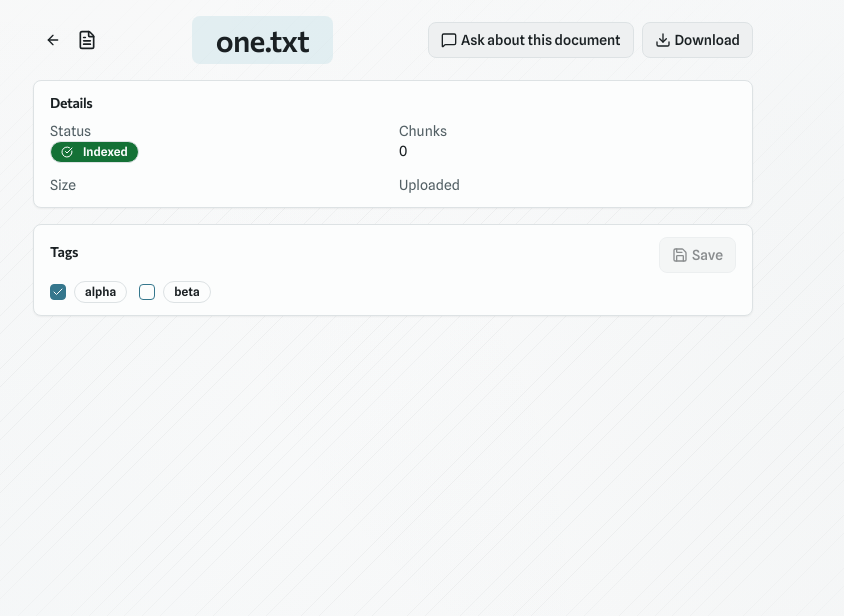
Test: AC6 toast pins (issue #764, non-frozen) › happy-path save on the current document toasts success and ends disabled
Click the checkbox named "Tag beta".
click(147, 292)  # box [139,284,155,300]
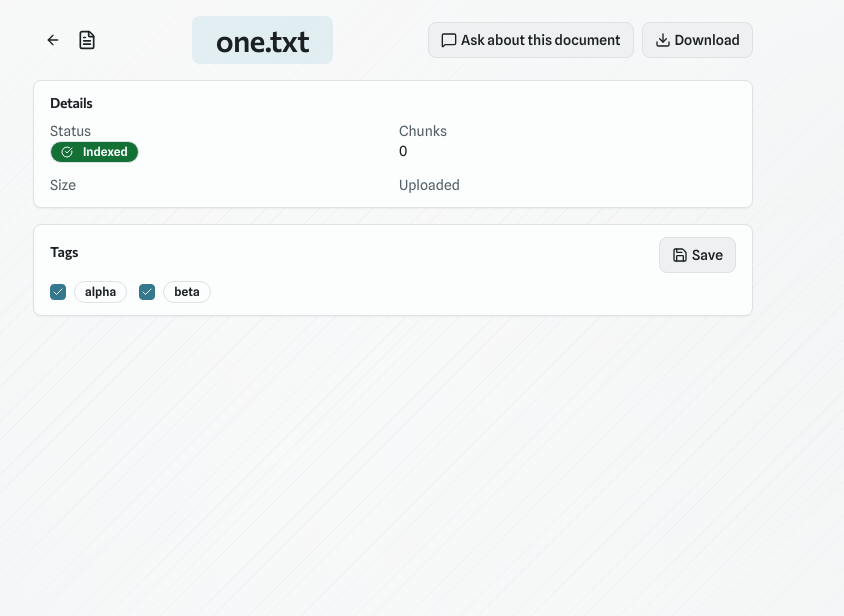
expect the button "Save" is enabled: met
Click the button "Save".
click(698, 255)  # box [659,237,736,273]
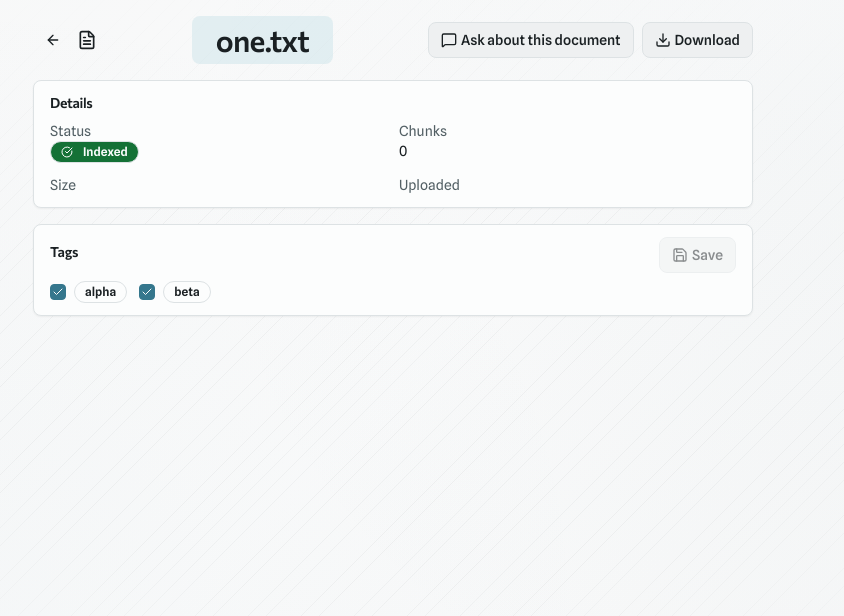
expect the button "Save" is disabled: met, box [659,237,736,273]
